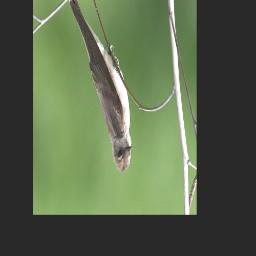Swallow: (67, 0, 132, 174)
